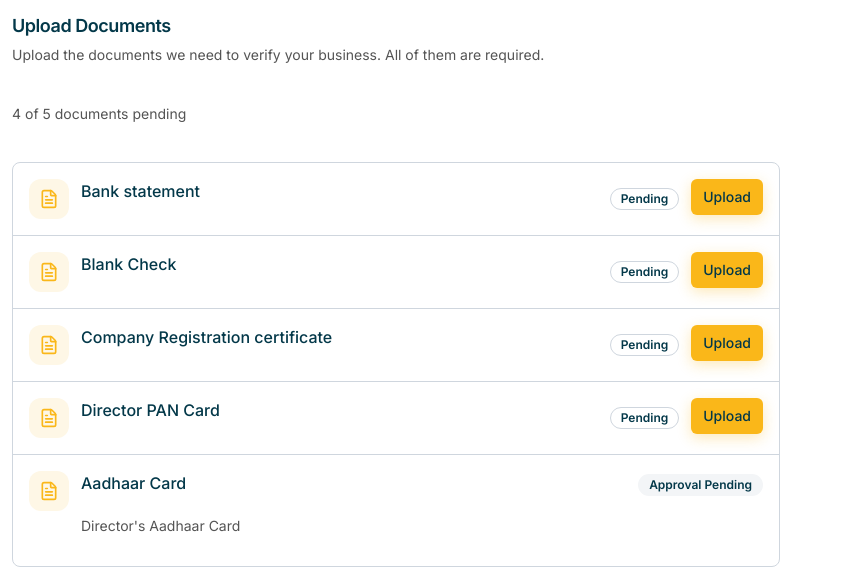
it: Documents › explains an uploaded document's status in a tooltip
Focus the text "Approval Pending": (701, 484) [638, 471, 763, 496]
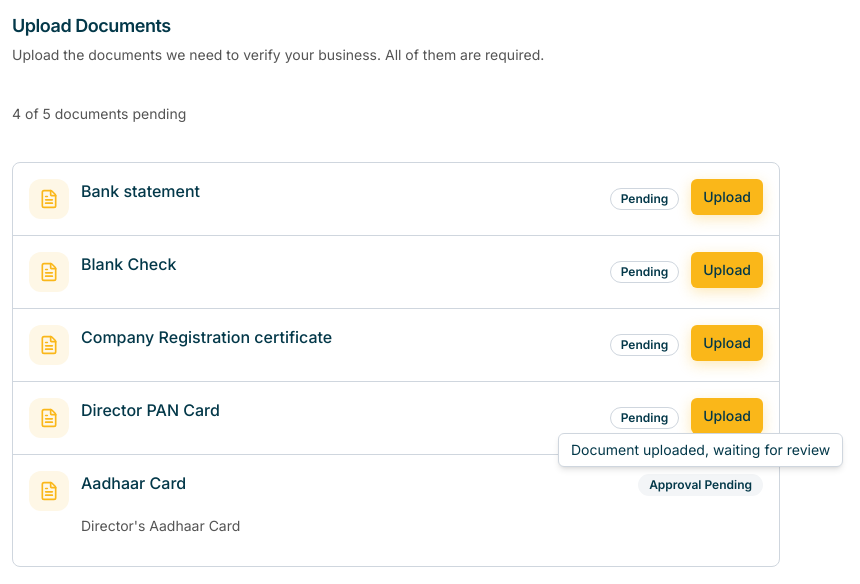
Check: the tooltip reads "Document uploaded, waiting for review", box [571, 441, 830, 458]
